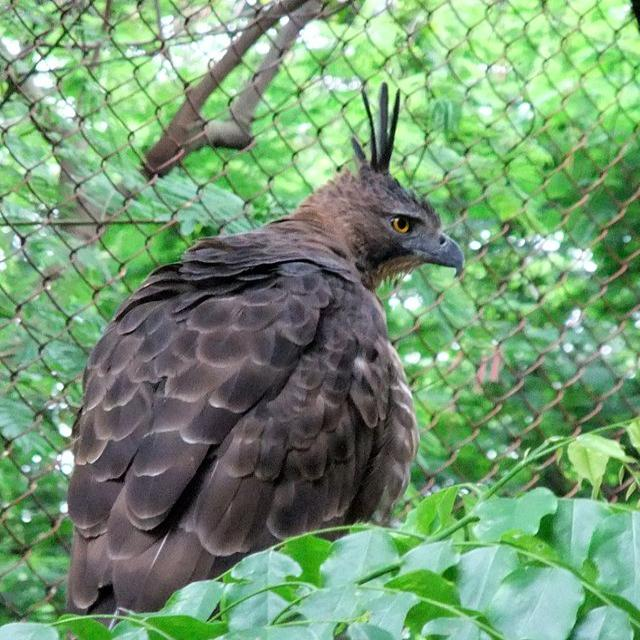Elang Jawa: (36, 61, 511, 635)
